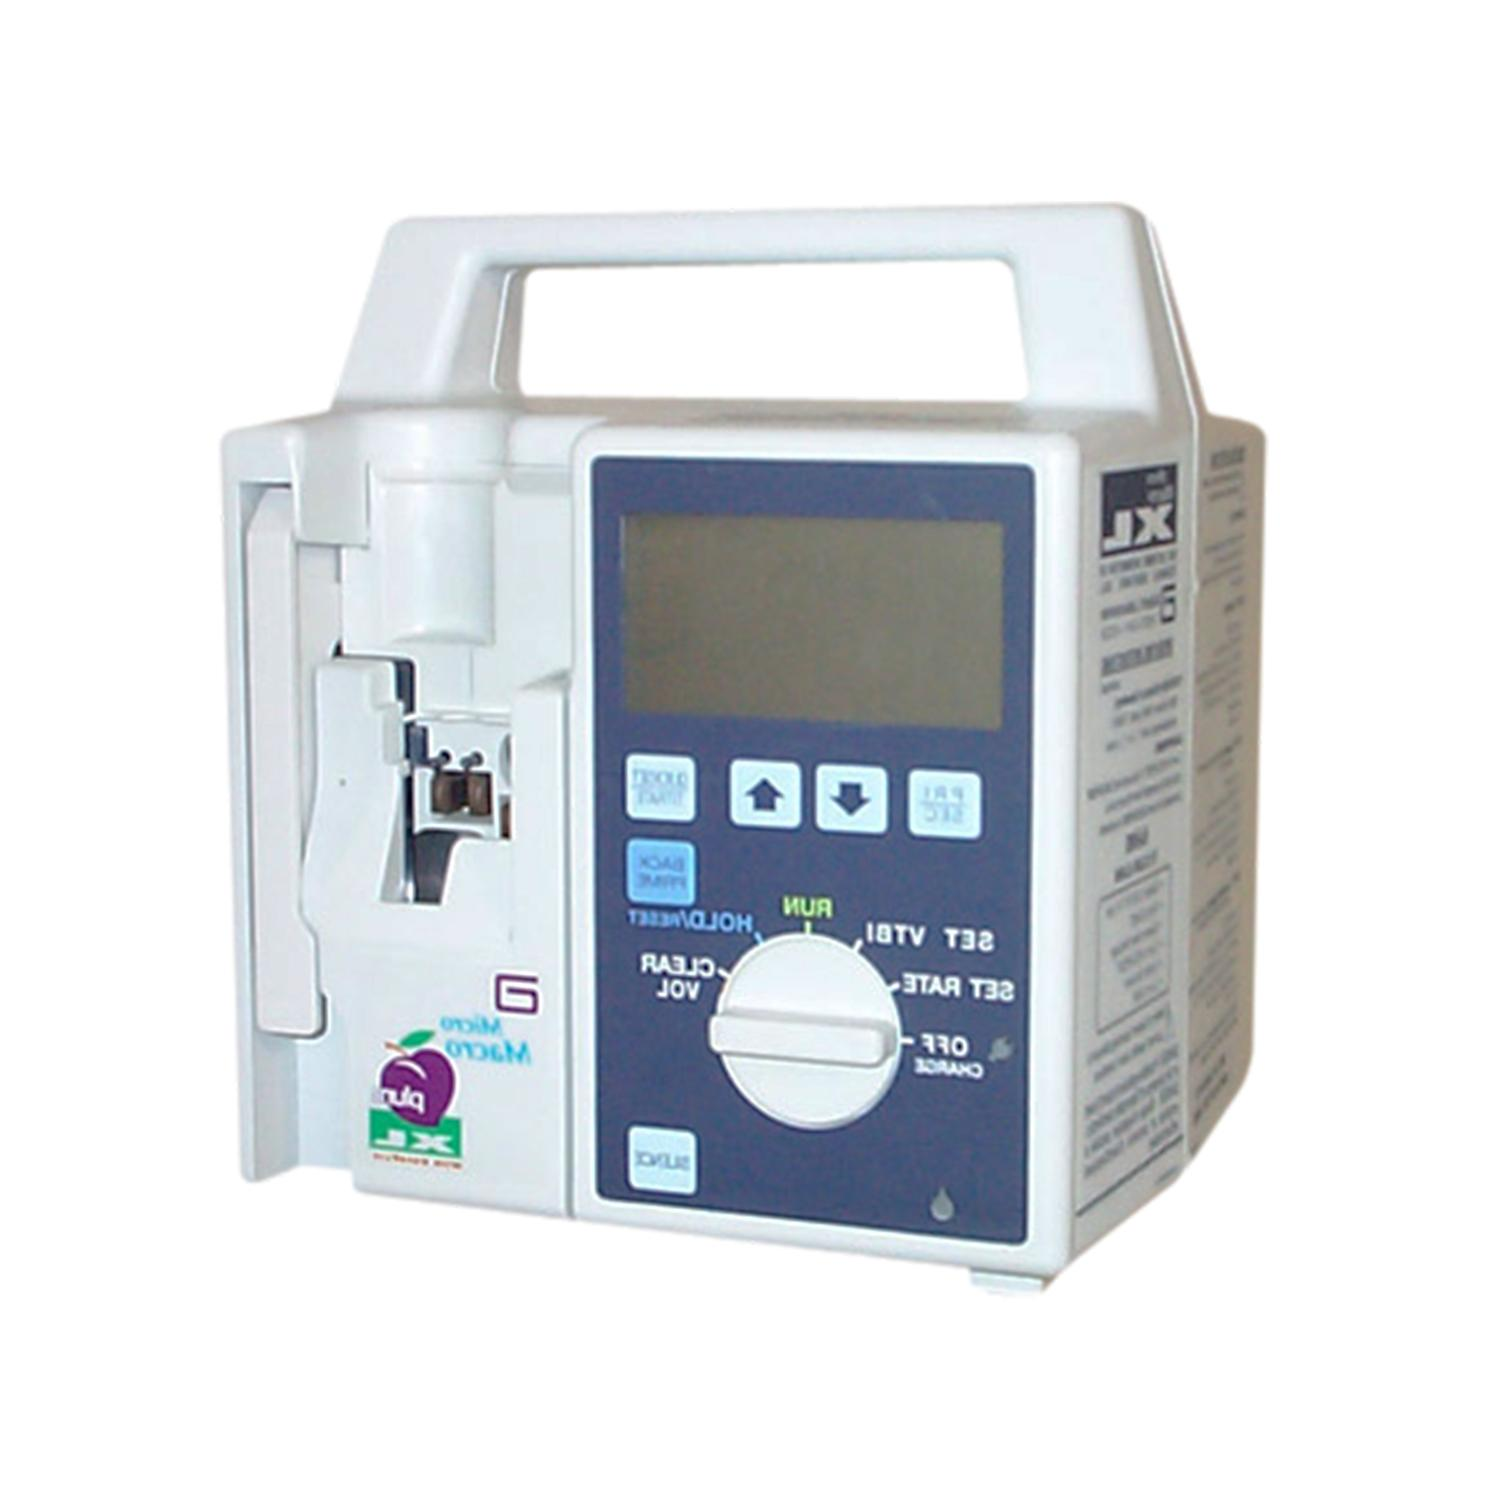plumxl1: (212, 183, 1277, 1283)
